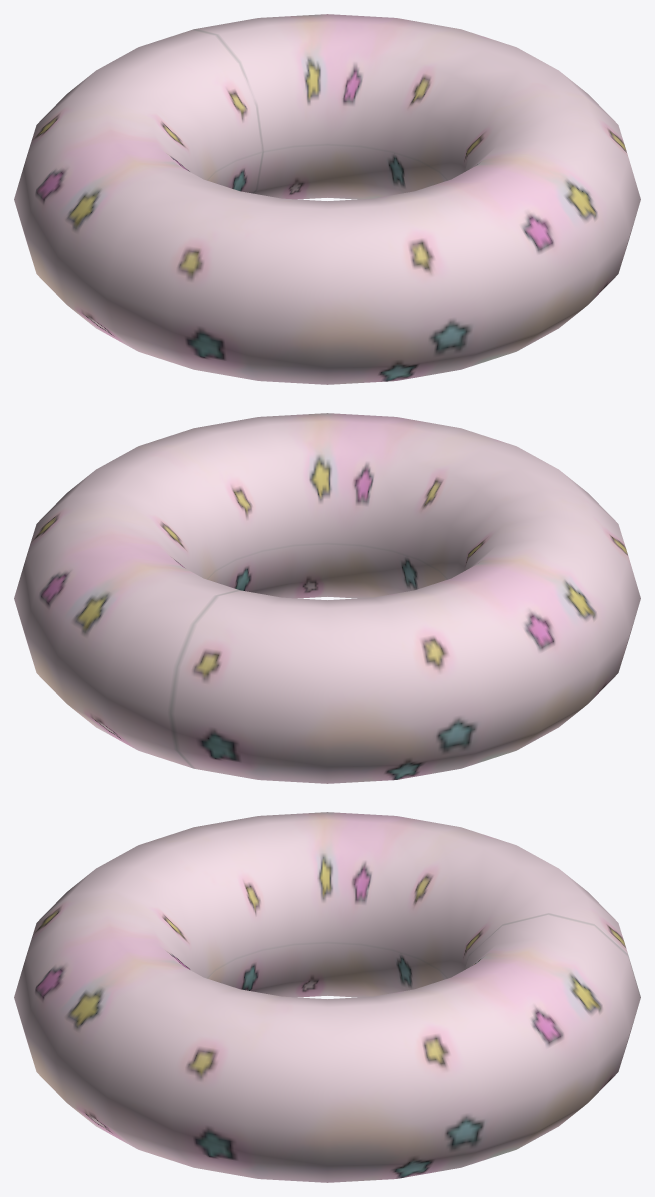
The model's file is STARS.fbx.
3 views of the same model, one above another, from view 1: azimuth 30°, elevation 25°; view 2: azimuth 150°, elevation 25°; view 3: azimuth 270°, elevation 25° (orthographic).
Parts seen in each view (by area): view 1: FLOAT_STARS; view 2: FLOAT_STARS; view 3: FLOAT_STARS.
Part boxes in pixels (x1,y1,x2,y2): FLOAT_STARS: (14, 14, 640, 384); FLOAT_STARS: (14, 413, 640, 783); FLOAT_STARS: (14, 812, 640, 1182).
Size of the model in its own units: 170 by 50 by 170.
